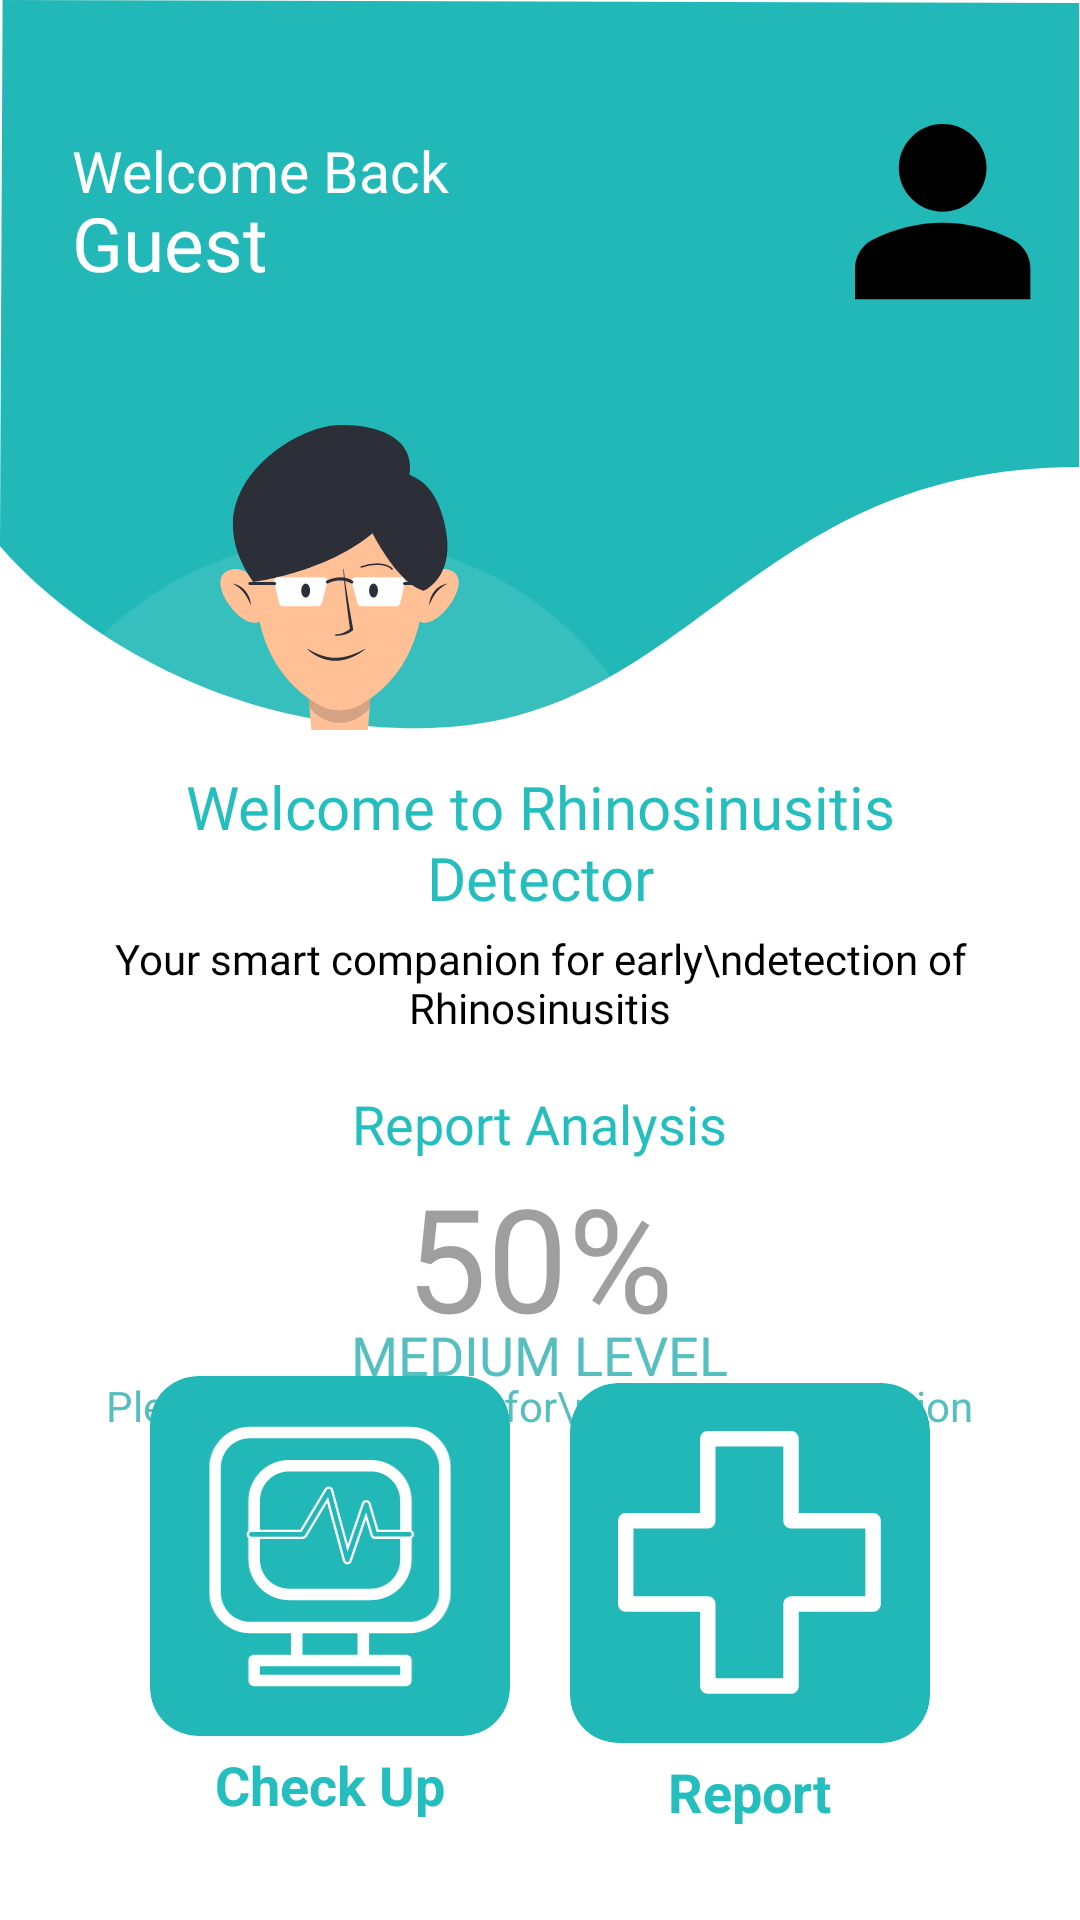

Icons on this 1080px x 1920px Android screen, each with the point to tap as (x,y):
guest: (943,212)
plus: (749,1562)
